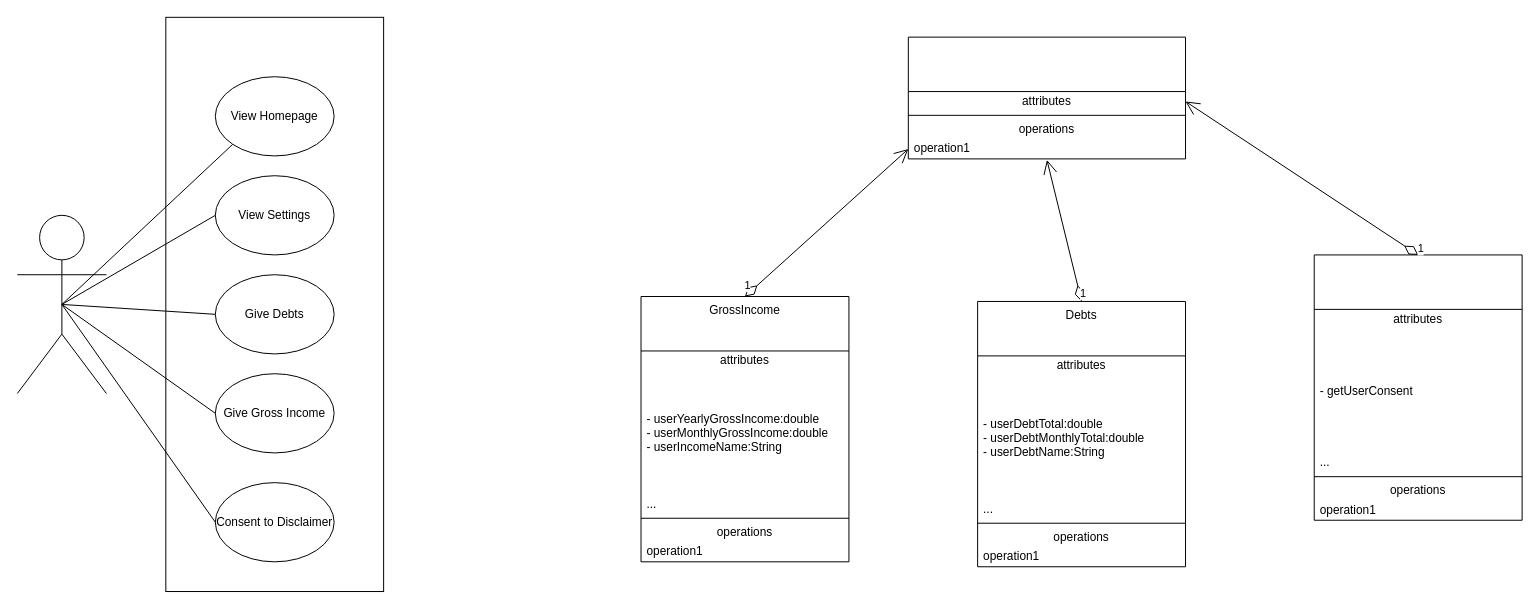
Some shapes in this 1539 by 609 pixel diagram are drawn without their labels. The box of each missing label's shape, as (x1, y1, x2, y2) in pixels:
Actor: (16, 214, 106, 394)
ConsentDisclaimer: (1313, 254, 1522, 520)
HomePage: (907, 36, 1186, 159)
